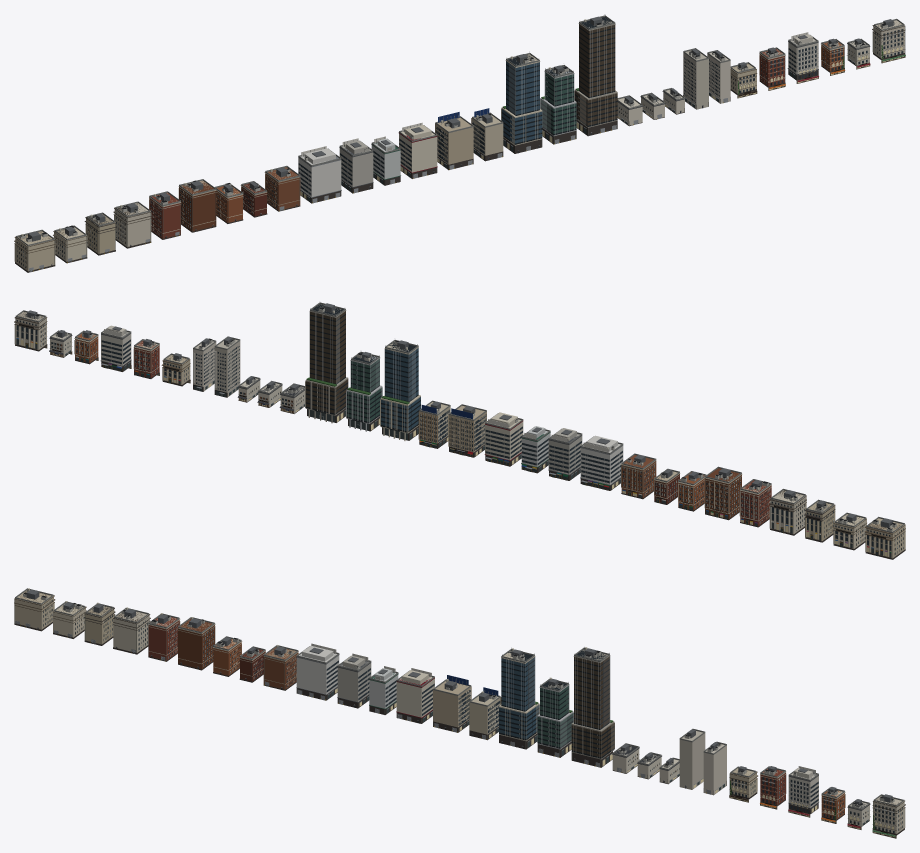
The model's file is tsumugifront.glb.
3 renders of one model, top to bottom at view 1: azimuth 30°, elevation 25°; view 2: azimuth 150°, elevation 25°; view 3: azimuth 330°, elevation 25°, orthographic.
Visible parts, largest first — view 1: tsumugifront_tower_c_body, tsumugifront_tower_a_body, tsumugifront_tower_b_body, tsumugifront_ribbon_a_body, tsumugifront_seni_a_body, tsumugifront_ribbon_d_body, tsumugifront_brick_b_body, tsumugifront_ribbon_b_body, tsumugifront_stone_d_body, tsumugifront_stone_a_body, tsumugifront_hotel_a_body, tsumugifront_seni_b_body (+15 smaller); view 2: tsumugifront_tower_c_body, tsumugifront_tower_a_body, tsumugifront_tower_b_body, tsumugifront_ribbon_a_body, tsumugifront_ribbon_d_body, tsumugifront_seni_a_body, tsumugifront_brick_b_body, tsumugifront_ribbon_b_body, tsumugifront_stone_d_body, tsumugifront_hotel_a_body, tsumugifront_stone_a_body, tsumugifront_brick_e_body (+15 smaller); view 3: tsumugifront_tower_c_body, tsumugifront_tower_a_body, tsumugifront_tower_b_body, tsumugifront_ribbon_a_body, tsumugifront_seni_a_body, tsumugifront_ribbon_d_body, tsumugifront_brick_b_body, tsumugifront_ribbon_b_body, tsumugifront_stone_d_body, tsumugifront_stone_a_body, tsumugifront_hotel_a_body, tsumugifront_canal_c_body (+16 smaller).
Part boxes in pixels (x1,y1,x2,y2): tsumugifront_tower_c_body: [574, 14, 617, 136]; tsumugifront_tower_a_body: [501, 51, 542, 153]; tsumugifront_tower_b_body: [540, 65, 576, 144]; tsumugifront_ribbon_a_body: [298, 146, 341, 203]; tsumugifront_seni_a_body: [435, 112, 473, 170]; tsumugifront_ribbon_d_body: [398, 122, 437, 178]; tsumugifront_brick_b_body: [178, 179, 216, 232]; tsumugifront_ribbon_b_body: [339, 138, 373, 193]; tsumugifront_stone_d_body: [113, 201, 151, 248]; tsumugifront_stone_a_body: [14, 229, 55, 272]; tsumugifront_hotel_a_body: [683, 48, 708, 109]; tsumugifront_seni_b_body: [471, 108, 503, 161]; tsumugifront_tower_c_body: [305, 301, 348, 423]; tsumugifront_tower_a_body: [380, 338, 420, 440]; tsumugifront_tower_b_body: [346, 350, 382, 431]; tsumugifront_ribbon_a_body: [580, 435, 623, 490]; tsumugifront_ribbon_d_body: [484, 412, 523, 466]; tsumugifront_seni_a_body: [448, 404, 486, 457]; tsumugifront_brick_b_body: [704, 466, 742, 520]; tsumugifront_ribbon_b_body: [548, 428, 582, 480]; tsumugifront_stone_d_body: [769, 488, 806, 535]; tsumugifront_hotel_a_body: [214, 336, 240, 397]; tsumugifront_stone_a_body: [864, 516, 905, 559]; tsumugifront_brick_e_body: [621, 453, 656, 499]; tsumugifront_tower_c_body: [571, 646, 614, 767]; tsumugifront_tower_a_body: [499, 647, 539, 749]; tsumugifront_tower_b_body: [537, 677, 573, 757]; tsumugifront_ribbon_a_body: [296, 643, 339, 700]; tsumugifront_seni_a_body: [433, 675, 471, 732]; tsumugifront_ribbon_d_body: [396, 668, 434, 723]; tsumugifront_brick_b_body: [177, 617, 215, 670]; tsumugifront_ribbon_b_body: [337, 653, 371, 708]; tsumugifront_stone_d_body: [113, 607, 150, 654]; tsumugifront_stone_a_body: [14, 588, 55, 631]; tsumugifront_hotel_a_body: [679, 728, 705, 789]; tsumugifront_canal_c_body: [788, 766, 818, 817].
Size of the model in its own units: 773 by 94.75 by 23.35.
